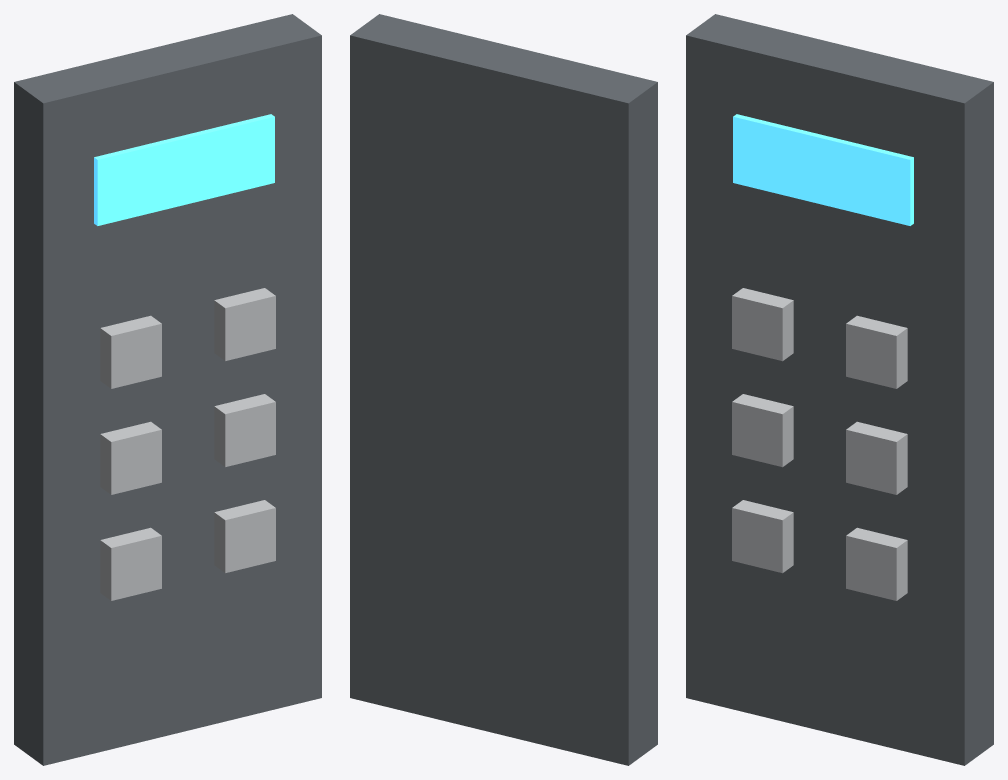
Rendered from Elevator_Control.glb.
The picture shows the model from 3 angles, left to right: view 1: azimuth 30°, elevation 25°; view 2: azimuth 150°, elevation 25°; view 3: azimuth 330°, elevation 25°; orthographic projection.
Visible parts, largest first — view 1: Elevator_Control; view 2: Elevator_Control; view 3: Elevator_Control.
Part boxes in pixels (<box>): Elevator_Control: <box>14,14,321,765</box>; Elevator_Control: <box>350,14,657,765</box>; Elevator_Control: <box>686,14,993,765</box>.
Size of the model in its own units: 0.22 by 0.5 by 0.055.
